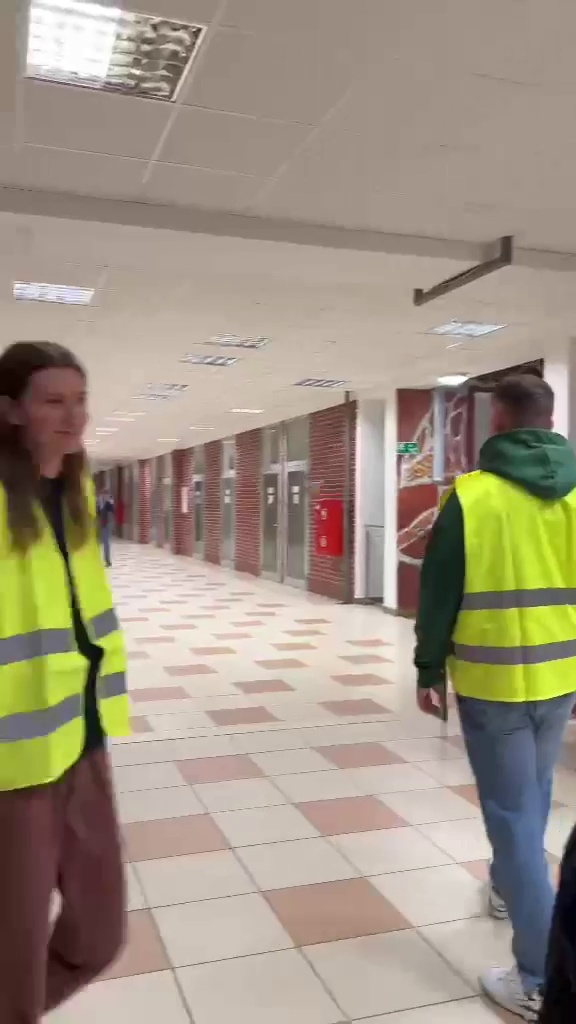vest: (410, 365, 575, 1016), (1, 338, 137, 1019)
